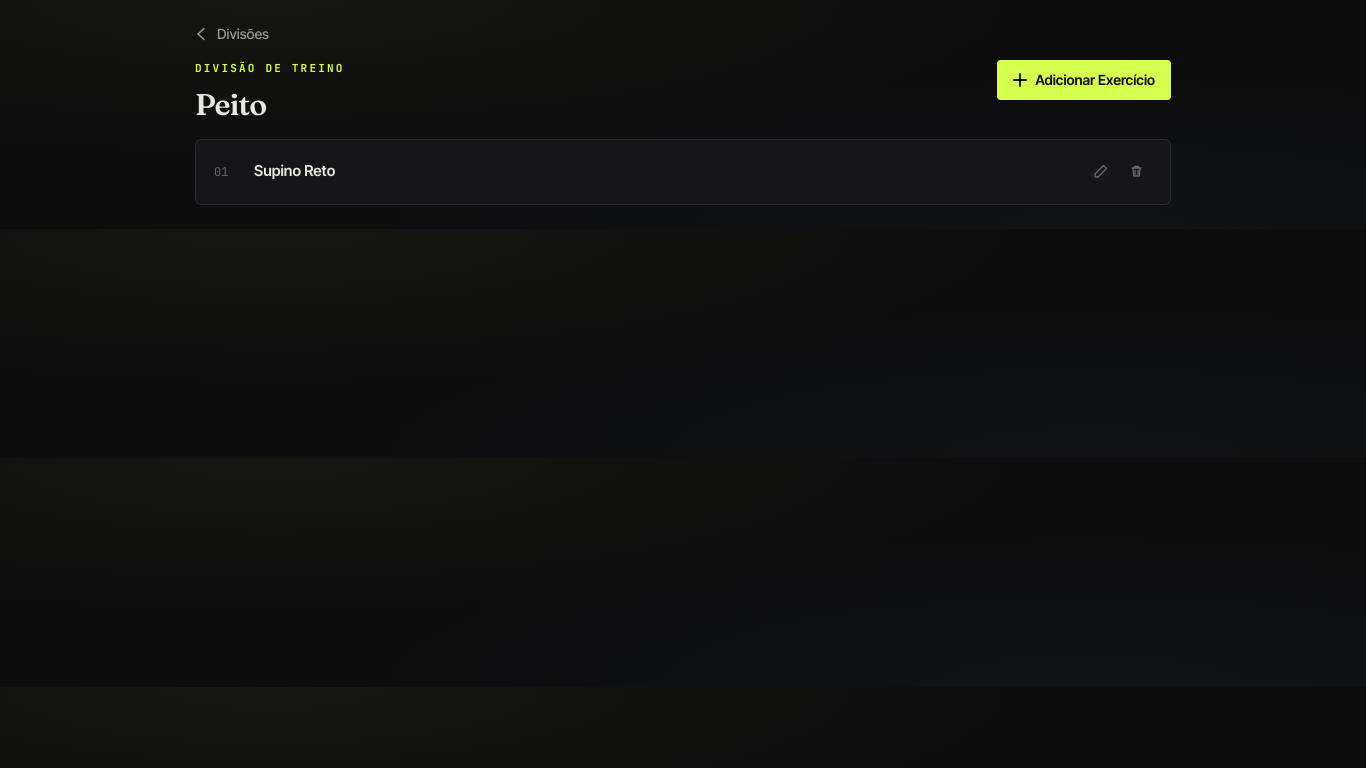
Scenario: ExercisesComponent › edit exercise › should open the form in edit mode prefilled when the row edit is clicked
Click the button named "Renomear exercício".
click(1100, 172)  # box [1084,156,1116,188]
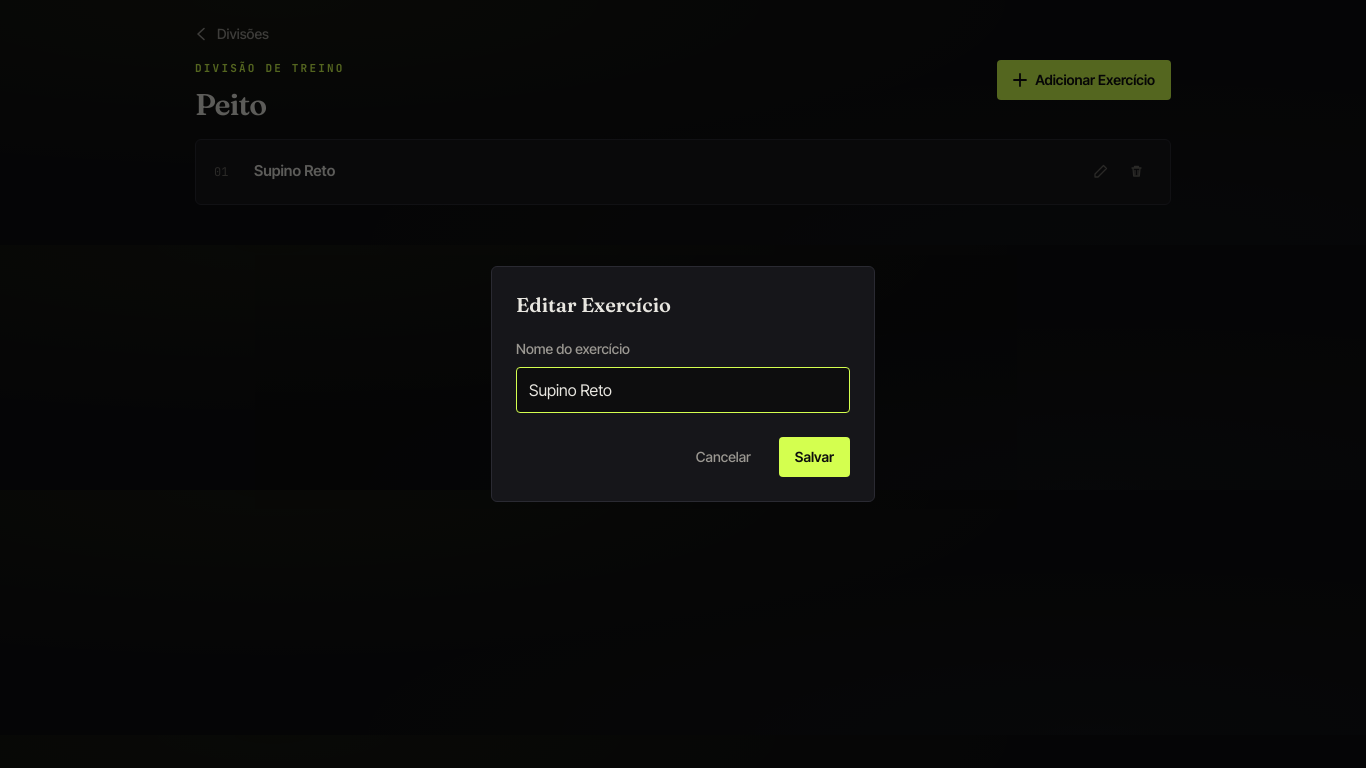
Now the heading "Editar Exercício" is shown, box [516,292,671,317]
